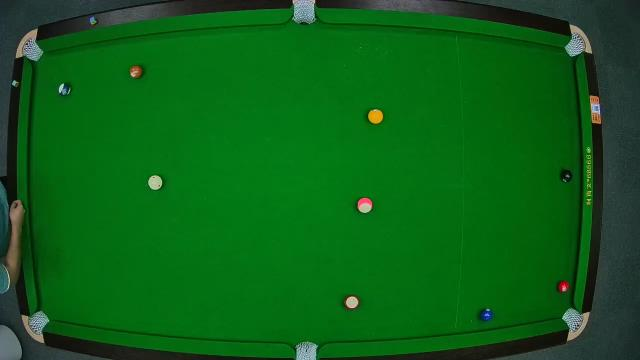bag1: (19, 36, 45, 64)
bag2: (292, 0, 316, 26)
bag3: (563, 30, 589, 57)
bag4: (25, 309, 51, 339)
bag5: (294, 340, 318, 360)
bag6: (560, 306, 586, 334)
ball0: (146, 174, 164, 192)
ball1: (367, 107, 385, 125)
ball11: (344, 294, 360, 310)
ball12: (355, 195, 375, 215)
ball14: (56, 81, 74, 99)
ball2: (478, 306, 494, 324)
ball3: (556, 278, 572, 296)
ball7: (128, 64, 144, 80)
ball8: (558, 168, 574, 184)
